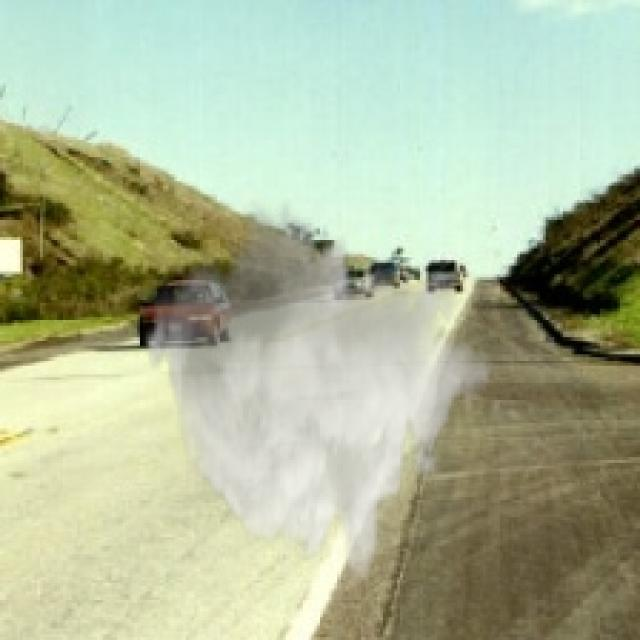smoke: (143, 197, 494, 589)
